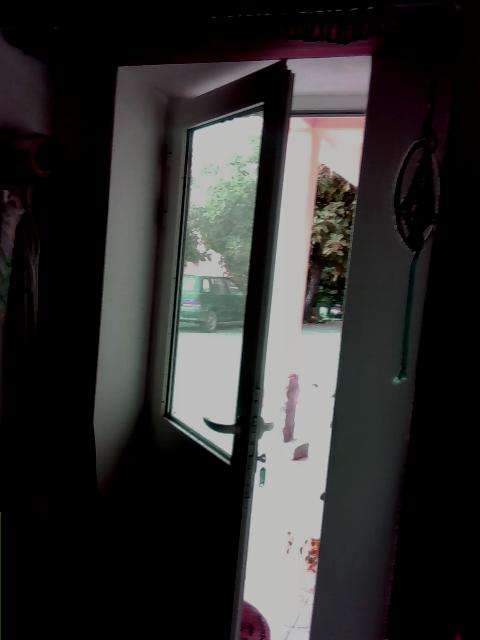semi_door: (119, 55, 384, 639)
